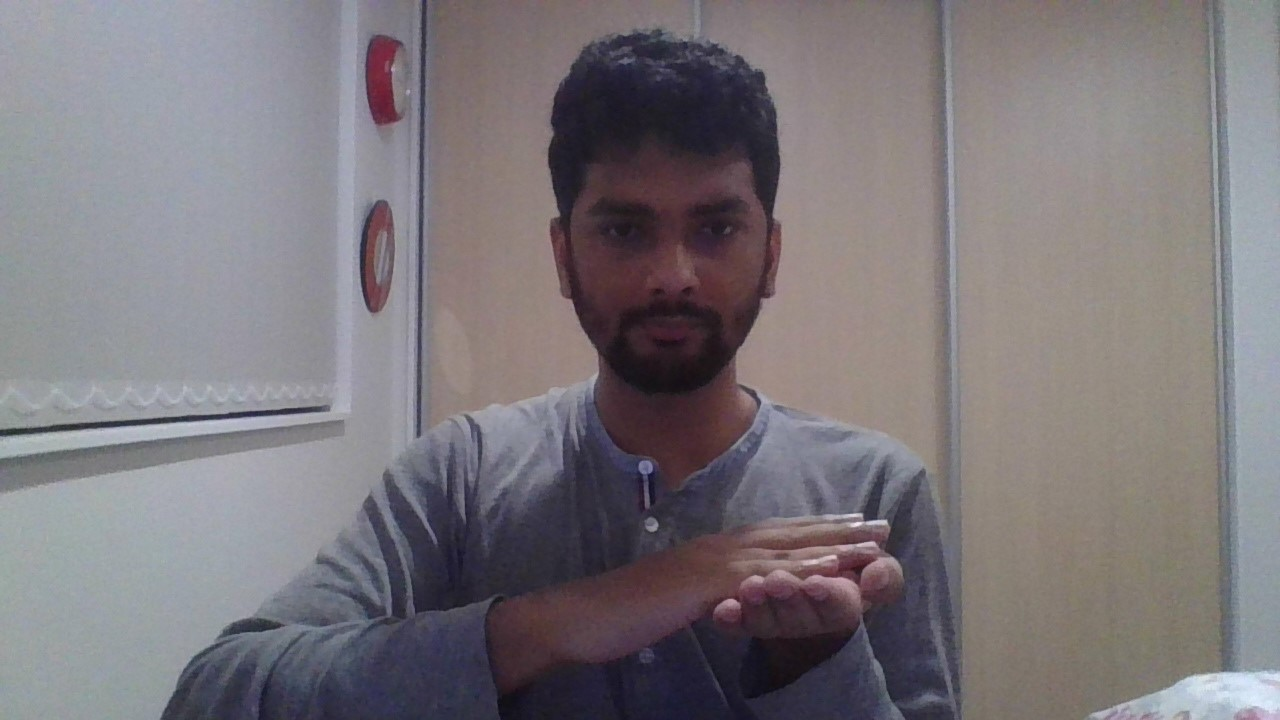clear: (543, 512, 907, 663)
